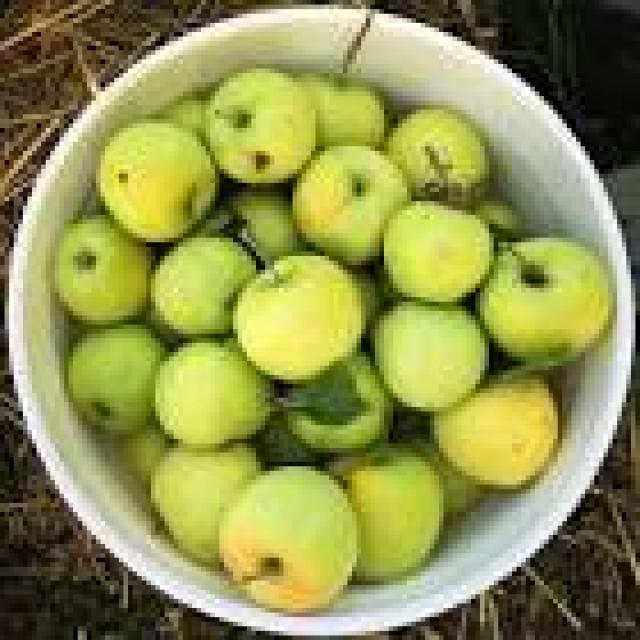apple: (220, 467, 356, 612), (234, 252, 365, 383), (480, 238, 612, 361), (96, 119, 219, 242), (334, 444, 443, 580), (293, 147, 411, 265), (435, 375, 557, 489), (151, 444, 260, 566), (375, 302, 489, 411), (206, 69, 315, 182), (156, 339, 269, 447), (151, 234, 255, 338), (384, 202, 493, 301), (288, 352, 393, 452), (69, 325, 164, 434), (55, 215, 150, 324), (384, 110, 489, 205), (298, 74, 388, 146), (407, 435, 484, 516), (229, 188, 301, 260), (256, 416, 319, 466), (119, 426, 169, 484), (160, 96, 205, 141), (471, 202, 521, 237), (357, 270, 383, 324)
